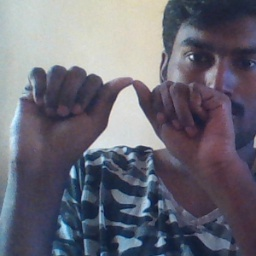A: (47, 57, 208, 165)
